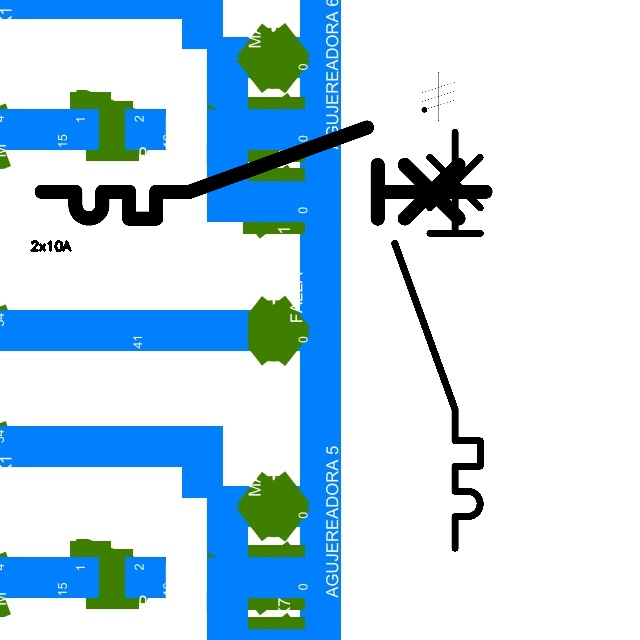interruptor_termomagnetico: (30, 116, 496, 230), (384, 121, 491, 558)
